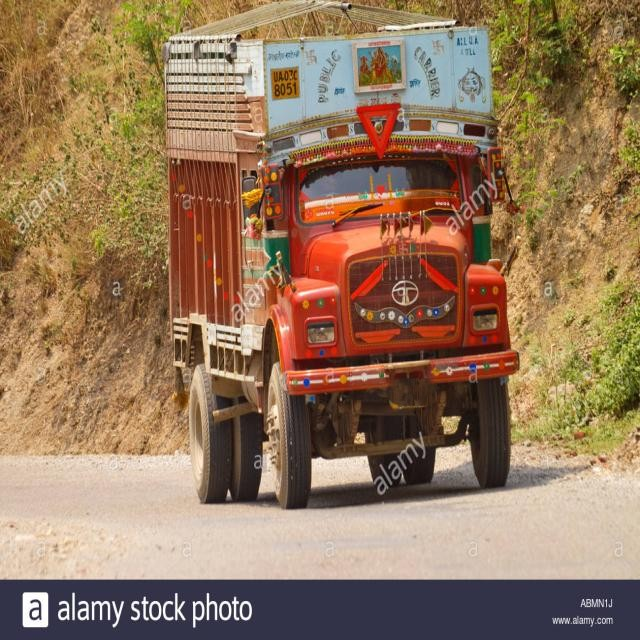truck: (169, 3, 495, 513)
